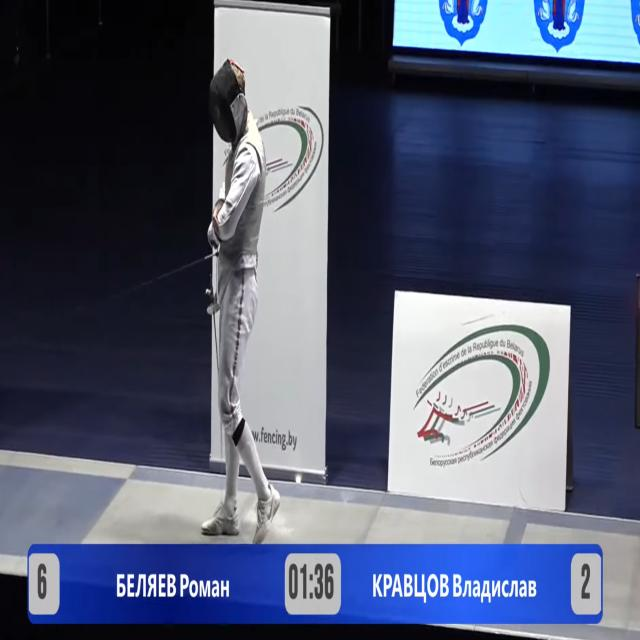fencer: (201, 63, 284, 546)
overlayLeft: (66, 548, 287, 621)
overlayRight: (335, 546, 561, 625)
scoreLeft: (29, 549, 63, 622)
scoreRight: (565, 548, 602, 619)
